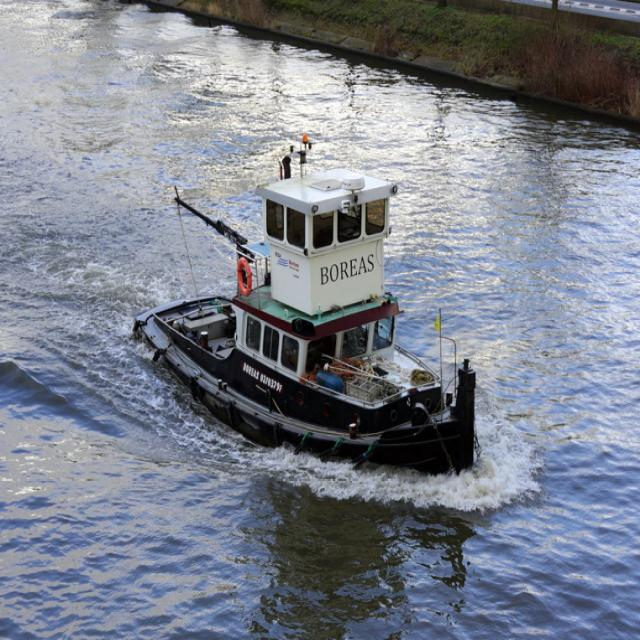tugboat: (130, 131, 483, 489)
